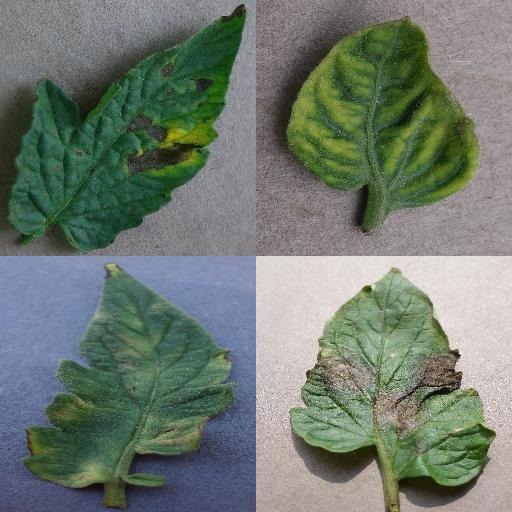Early Blight: (6, 2, 249, 254)
Late Blight: (291, 269, 497, 487)
Leaf Mold: (23, 262, 236, 492)
Yellow Leaf Curl Virus: (284, 18, 480, 210)
